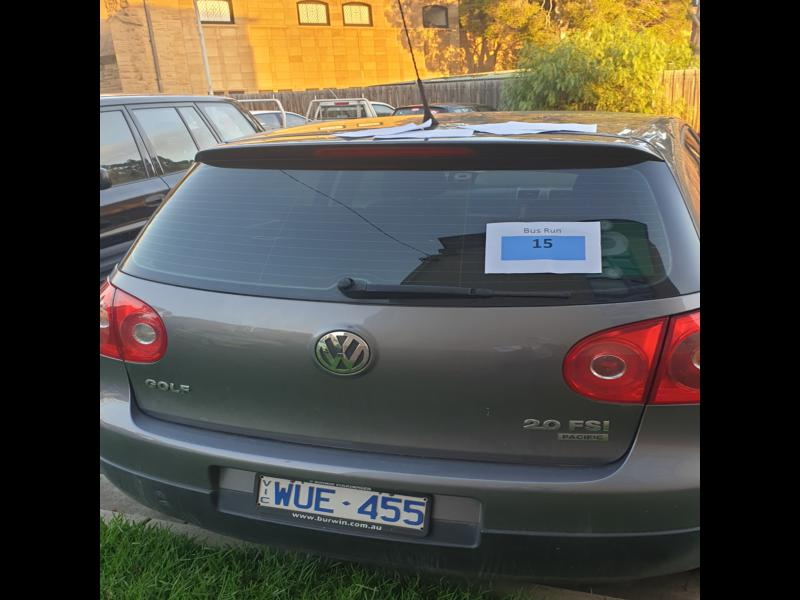BusRun: (500, 234, 585, 261)
PlateNo: (254, 471, 429, 533)
